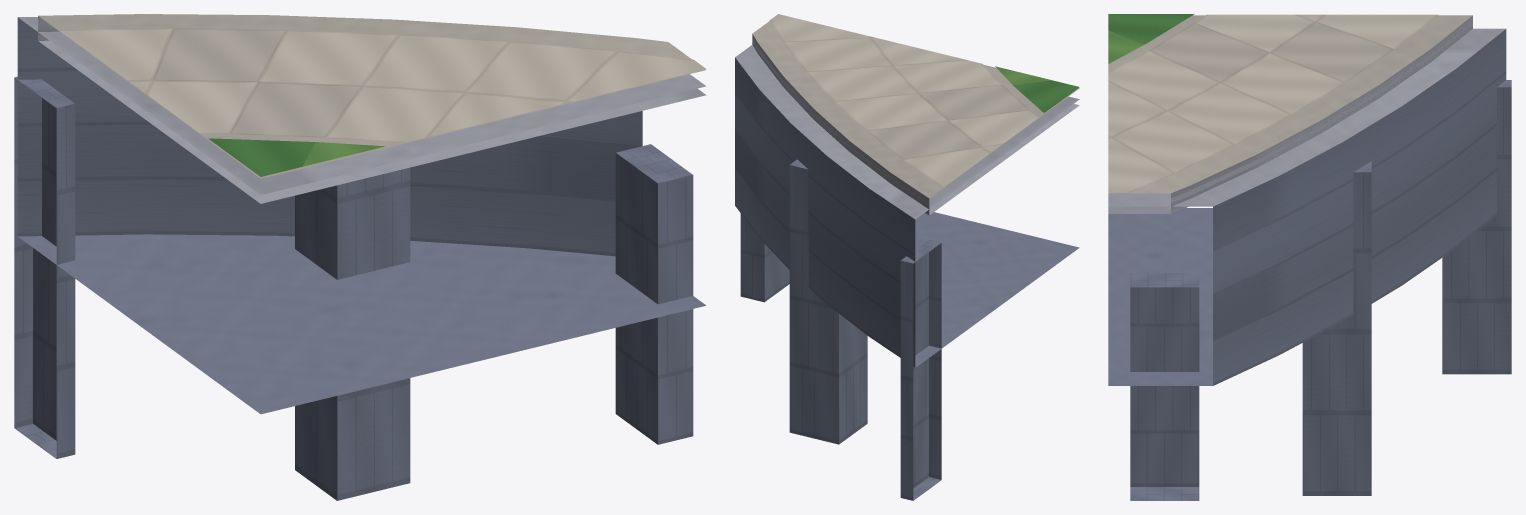
The model's file is high_crown_fracture_49.obj.
3 renders of one model, left to right at view 1: azimuth 30°, elevation 25°; view 2: azimuth 150°, elevation 25°; view 3: azimuth 270°, elevation 25°, orthographic. The views are drawn at different scales.
Visible parts, largest first — view 1: ArenaFracture49; view 2: ArenaFracture49; view 3: ArenaFracture49.
Boxes of the visible parts, <box> form: ArenaFracture49: <box>14,14,706,500</box>; ArenaFracture49: <box>735,14,1079,500</box>; ArenaFracture49: <box>1108,14,1511,500</box>.
Bounding box in the file's own units: 10 × 9.83 × 9.57.
6 materials, 6 textured.
